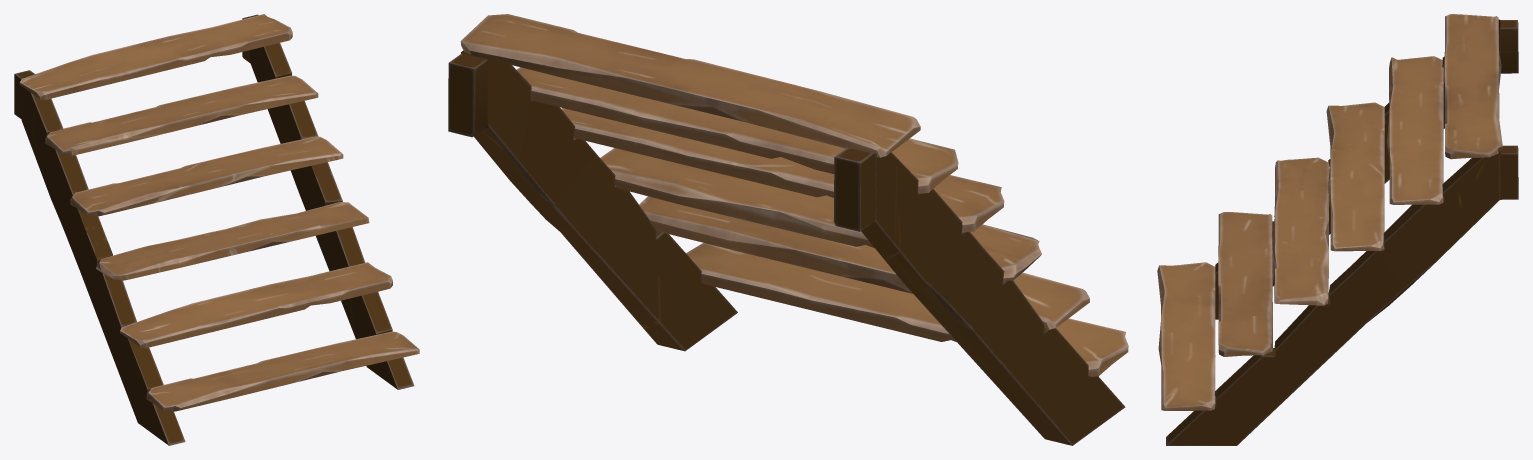
File: Foundation_Stairs.fbx
The picture shows the model from 3 angles, left to right: view 1: azimuth 30°, elevation 25°; view 2: azimuth 150°, elevation 25°; view 3: azimuth 270°, elevation 25°; orthographic projection. The views are drawn at different scales.
Visible parts, largest first — view 1: Foundation_Stairs.001; view 2: Foundation_Stairs.001; view 3: Foundation_Stairs.001.
Boxes of the visible parts, x1,y1,x2,y2 form: Foundation_Stairs.001: (14, 14, 419, 445); Foundation_Stairs.001: (448, 14, 1128, 445); Foundation_Stairs.001: (1157, 14, 1518, 445).
Size of the model in its own units: 99.59 by 99.21 by 108.
